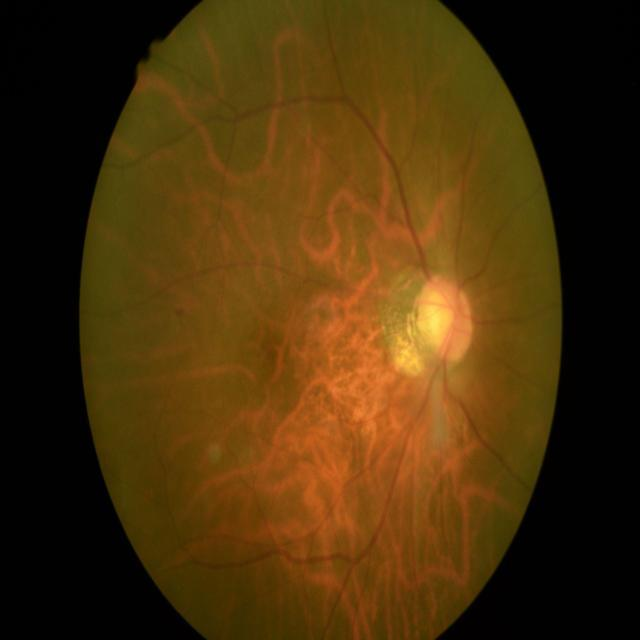cup: (422, 282, 456, 354)
disk: (416, 274, 474, 364)
